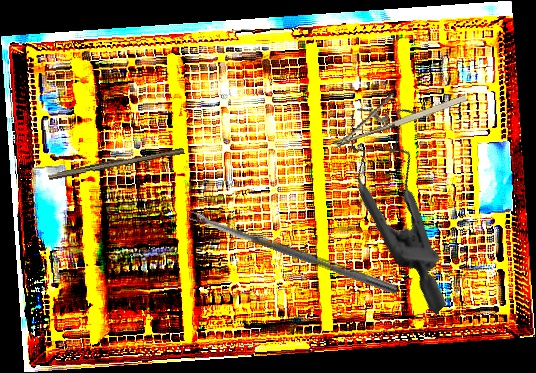Needle Holder: (324, 71, 469, 149)
Scalpel Handle: (47, 143, 185, 183)
Speculum: (289, 82, 528, 315)
Surgical Spoon: (187, 209, 401, 295)
